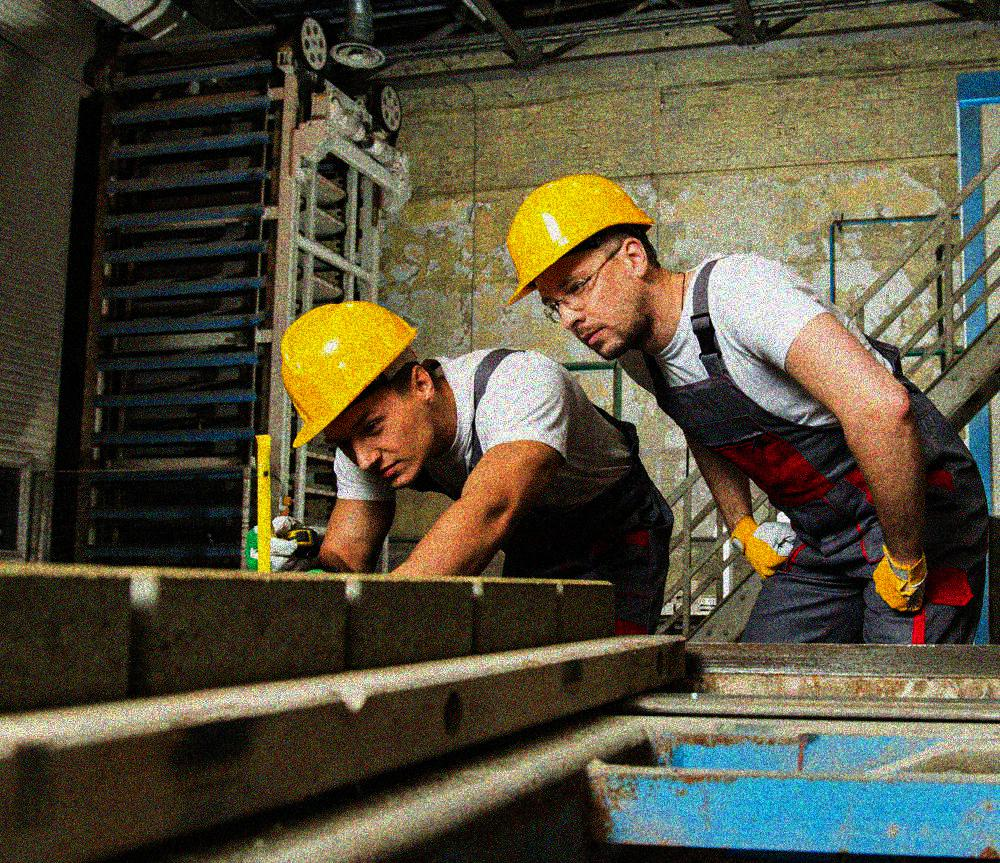helmet: (275, 299, 437, 495), (496, 172, 661, 363)
